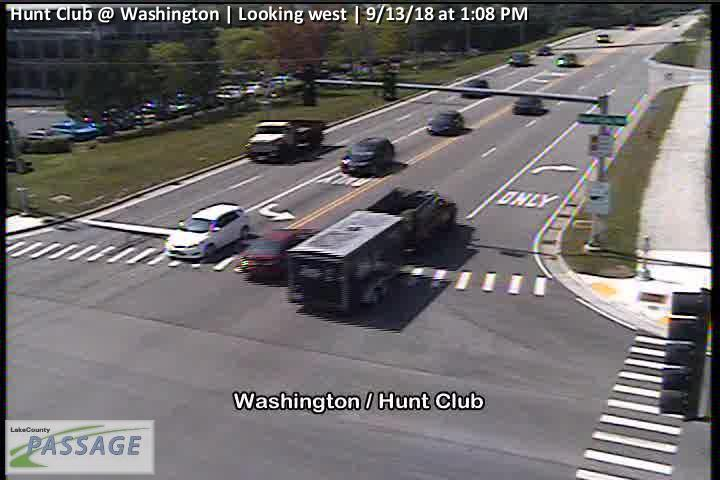SUV: (164, 203, 250, 261)
Sedan: (239, 230, 296, 279), (340, 137, 394, 175), (49, 120, 96, 140), (427, 111, 463, 135), (510, 96, 543, 114), (461, 80, 489, 97), (513, 51, 531, 68)
Truck: (287, 186, 457, 314), (245, 118, 327, 162)
